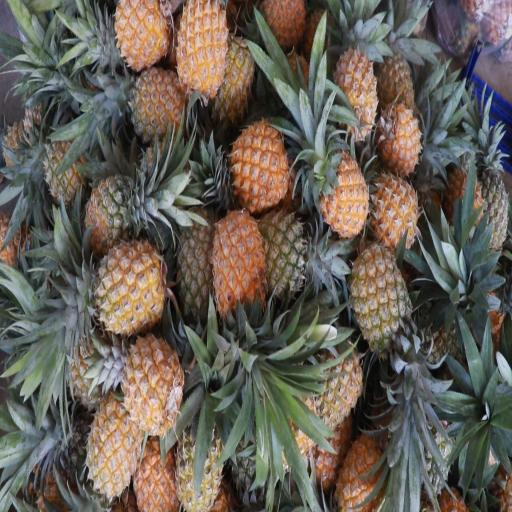------------------------------: (343, 236, 417, 361), (172, 408, 226, 510), (84, 171, 147, 255)
Pineapple - v8 v1: (82, 236, 170, 336), (208, 181, 266, 323), (118, 320, 188, 432), (117, 62, 190, 156), (83, 396, 143, 509), (220, 105, 288, 202), (332, 23, 382, 146), (173, 0, 230, 100), (335, 416, 394, 512), (314, 124, 369, 223), (368, 166, 420, 249), (114, 0, 169, 78), (374, 106, 422, 189)
